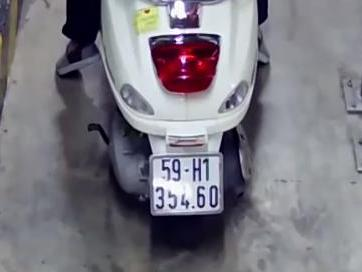num_plate: (148, 152, 225, 216)
